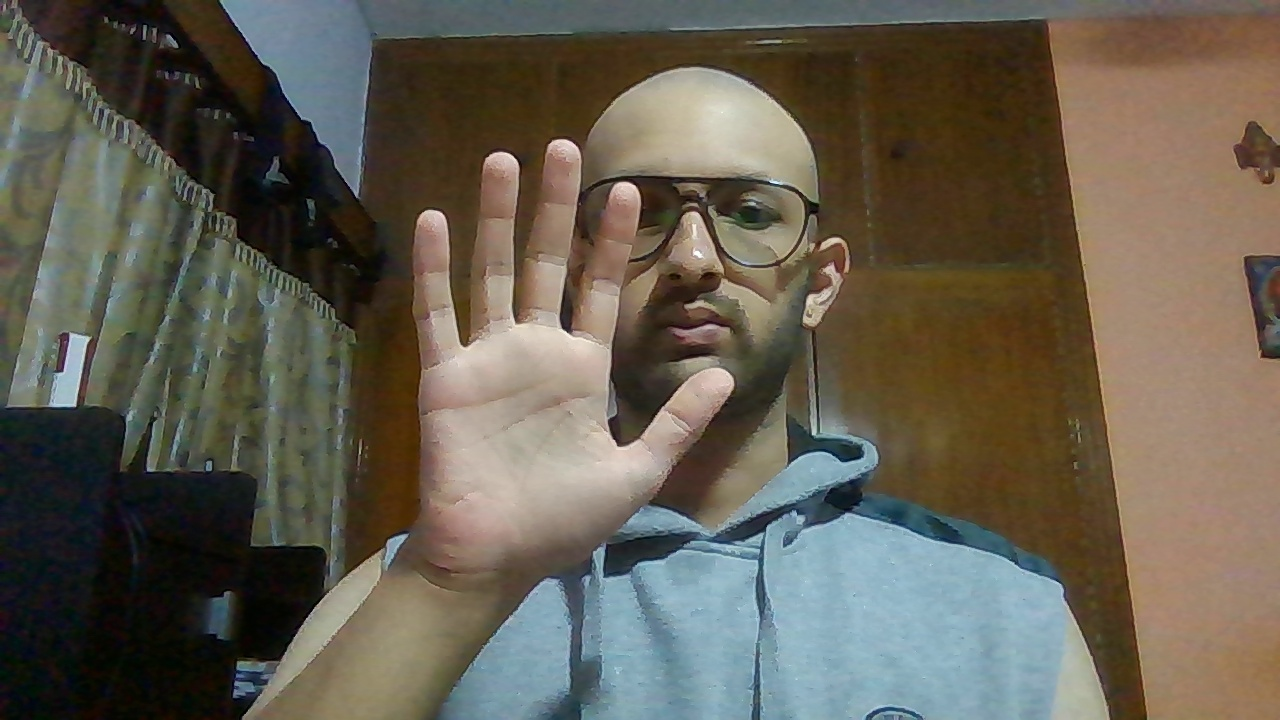Hello: (387, 138, 741, 611)
